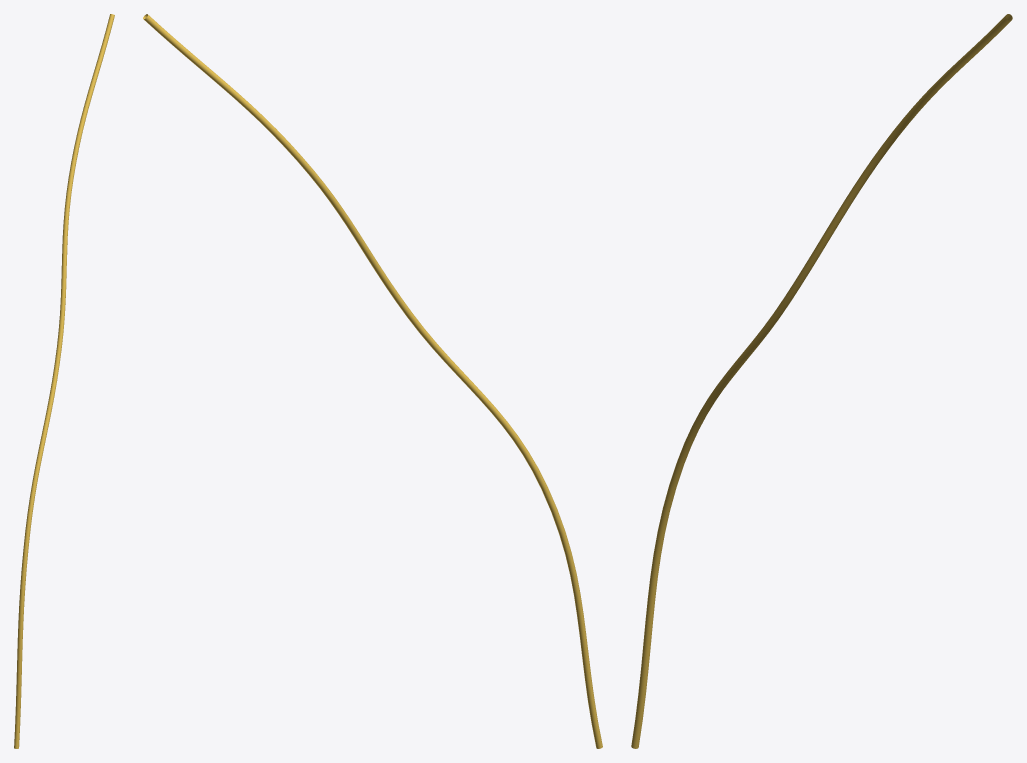
Rendered from Palmar_branch_ulnar_nerve_right.glb.
The picture shows the model from 3 angles, left to right: view 1: azimuth 30°, elevation 25°; view 2: azimuth 150°, elevation 25°; view 3: azimuth 270°, elevation 25°; orthographic projection. The views are drawn at different scales.
Visible parts, largest first — view 1: Palmar_branch_of_ulnar_nerve.r_BezierCurve.492; view 2: Palmar_branch_of_ulnar_nerve.r_BezierCurve.492; view 3: Palmar_branch_of_ulnar_nerve.r_BezierCurve.492.
Part boxes in pixels (left/top/right/bottom): Palmar_branch_of_ulnar_nerve.r_BezierCurve.492: left=14, top=14, right=114, bottom=748; Palmar_branch_of_ulnar_nerve.r_BezierCurve.492: left=143, top=14, right=602, bottom=748; Palmar_branch_of_ulnar_nerve.r_BezierCurve.492: left=631, top=14, right=1012, bottom=748.
Bounding box in the file's own units: 0.0502 × 0.1267 × 0.049.
